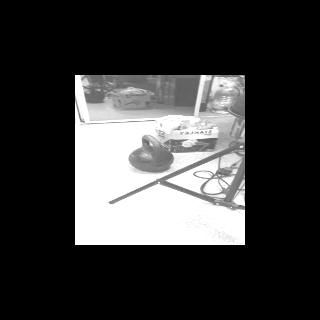kettlebell: (126, 135, 174, 173)
